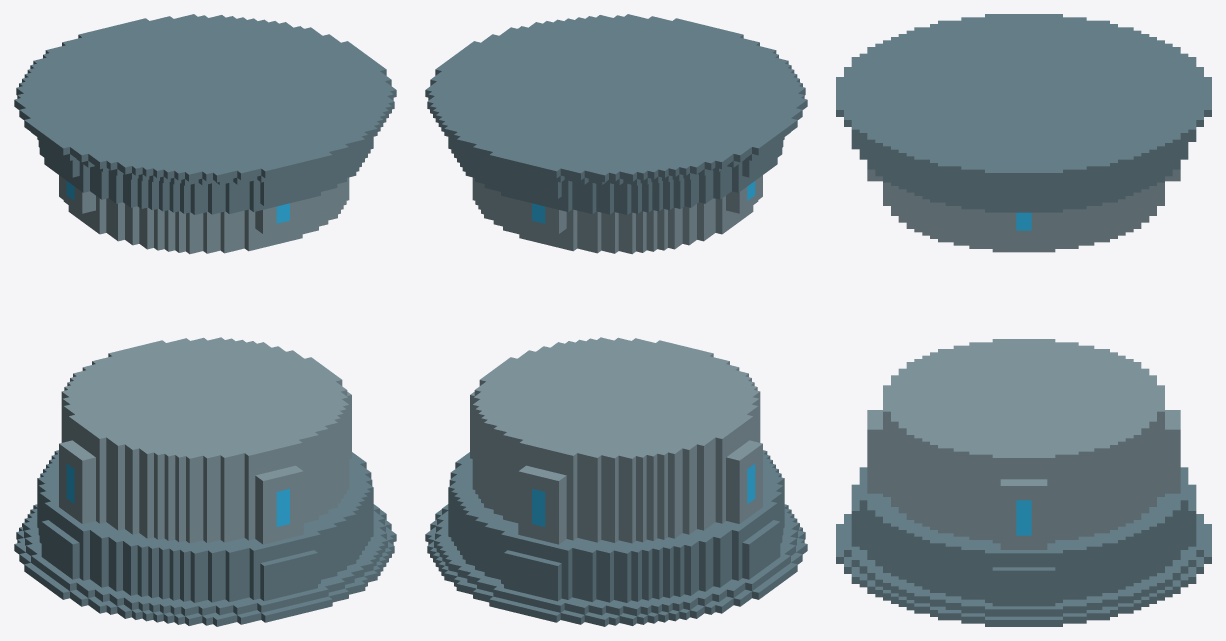
The model's file is GiantPowerStation.fbx.
3 views of the same model, side by side, from view 1: azimuth 30°, elevation 25°; view 2: azimuth 150°, elevation 25°; view 3: azimuth 270°, elevation 25° (orthographic).
Visible parts, largest first — view 1: Matrix; view 2: Matrix; view 3: Matrix.
Part boxes in pixels (box(x1,y1,x2,y2)): Matrix: box(14, 14, 396, 626); Matrix: box(425, 14, 807, 626); Matrix: box(836, 14, 1211, 626).
Bounding box in the file's own units: 48 × 64 × 48.
Materials: 1 (1 with a texture image).
